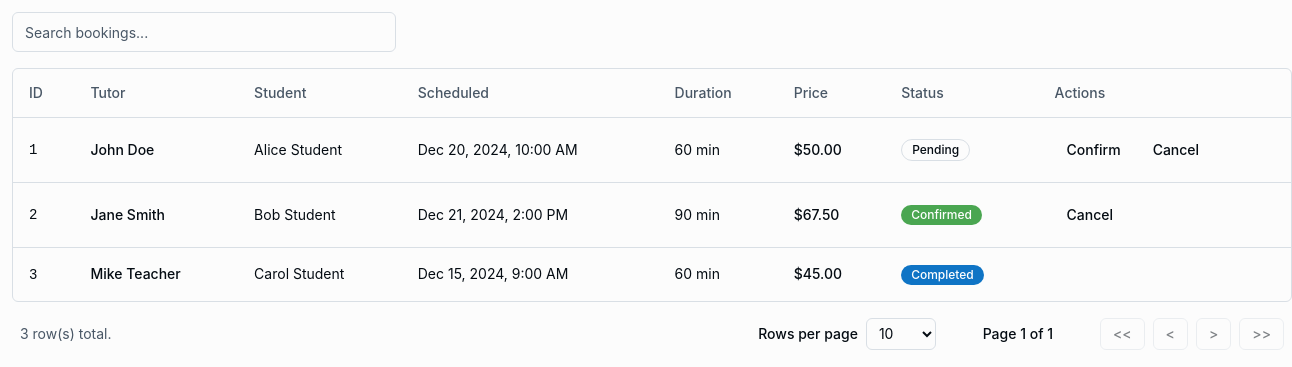
Scenario: BookingsTable › sorting functionality › toggles sort direction when clicking header
Click the text "Tutor" at coordinates (108, 92), box [90,84,126,101]
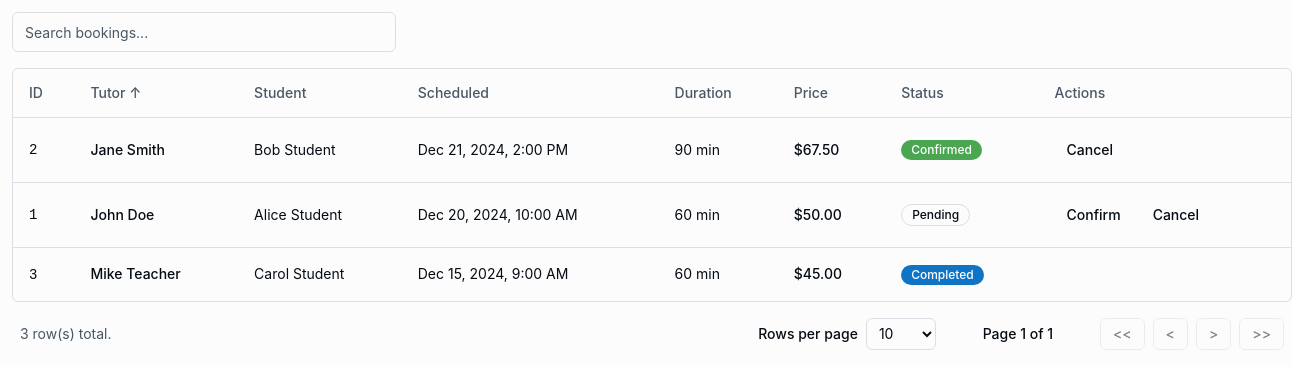
Expected: the column heading "Tutor" shows "↑", [126,84,141,101]
Click the text "Tutor" at coordinates (116, 92), box [90,84,141,101]
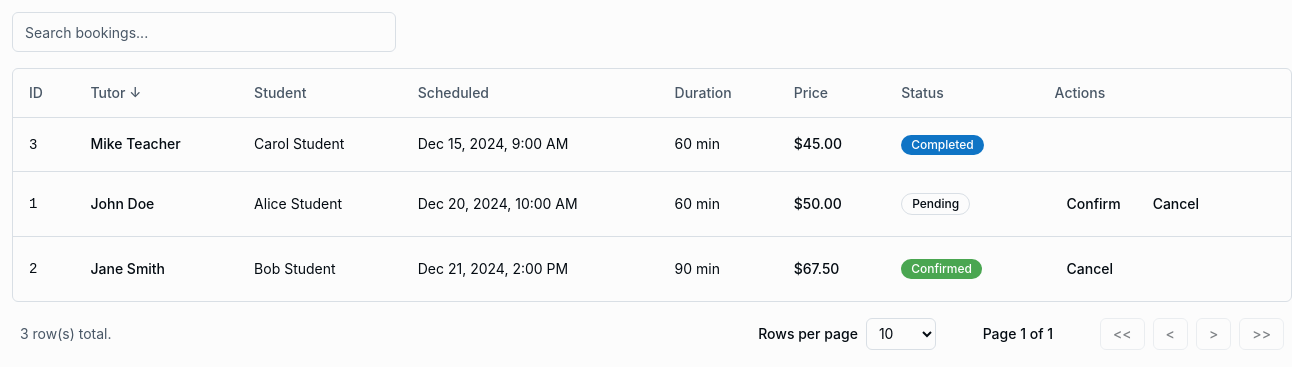
Expected: the column heading "Tutor" shows "↓", [126,84,141,101]
